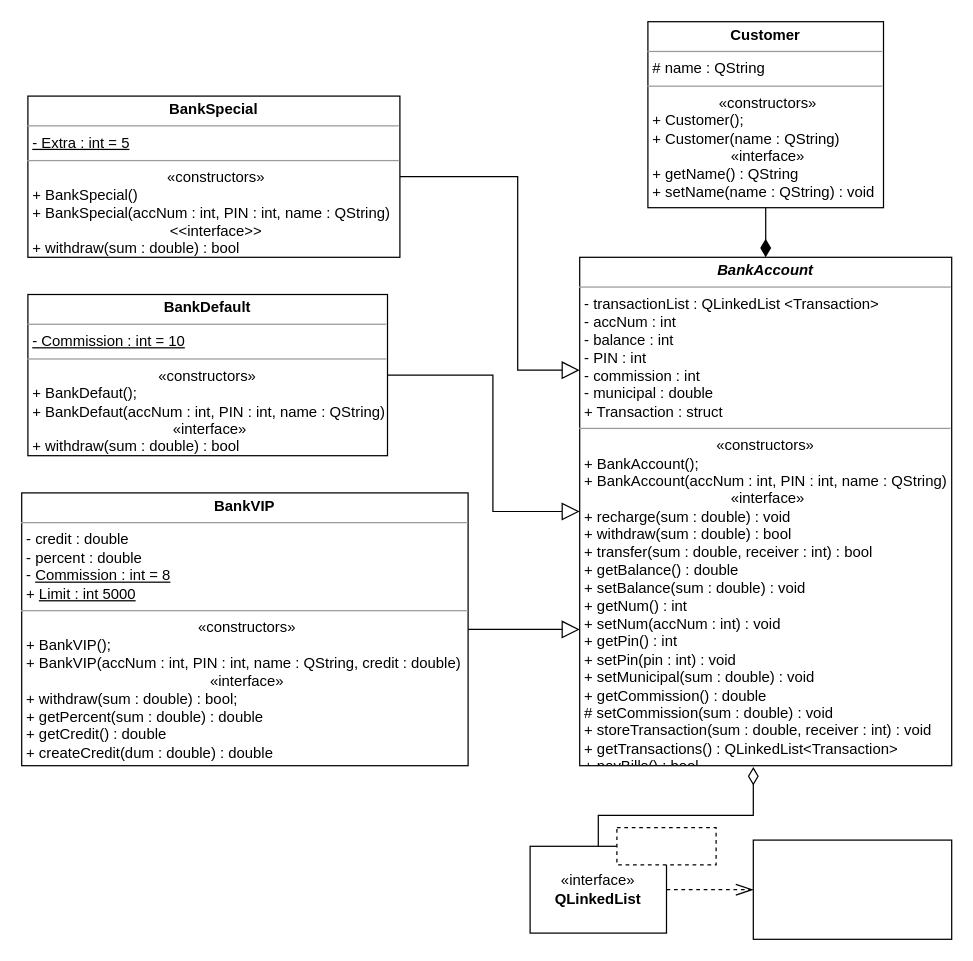
This 973x961 diagram has some shape labels left out. The shapes that lost their labels are listed below. From the top down, each one's centre as x and y in pixels, then its label:
the point at 666,845: Transactions
the point at 852,889: « struct » Transaction + receiver : int + sum : double
